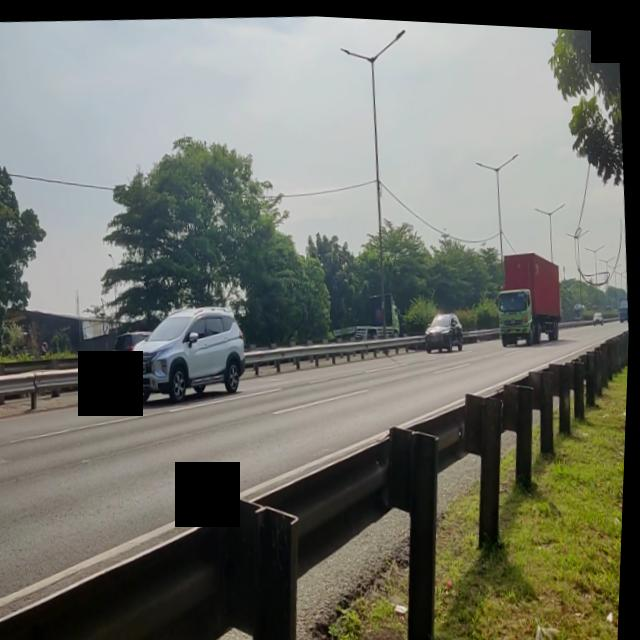Golongan I: (125, 292, 255, 411)
